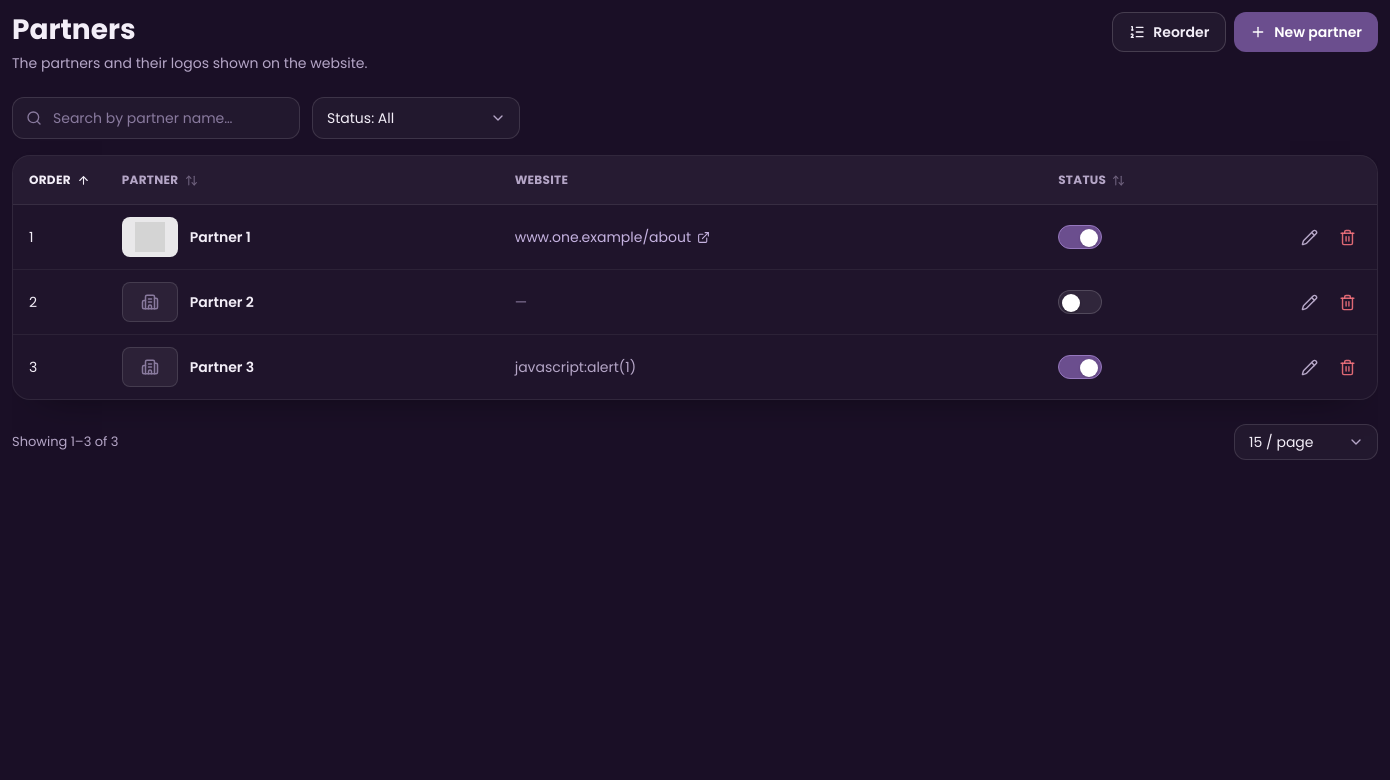
Test case: PartnerList › active toggle › sends only is_active and shows the saved toast
Expected: the text "Partner 1" is shown, top-left (190, 227), bottom-right (251, 247)
Click the switch named "Active: Partner 1": (1080, 237) top-left (1058, 225), bottom-right (1102, 249)
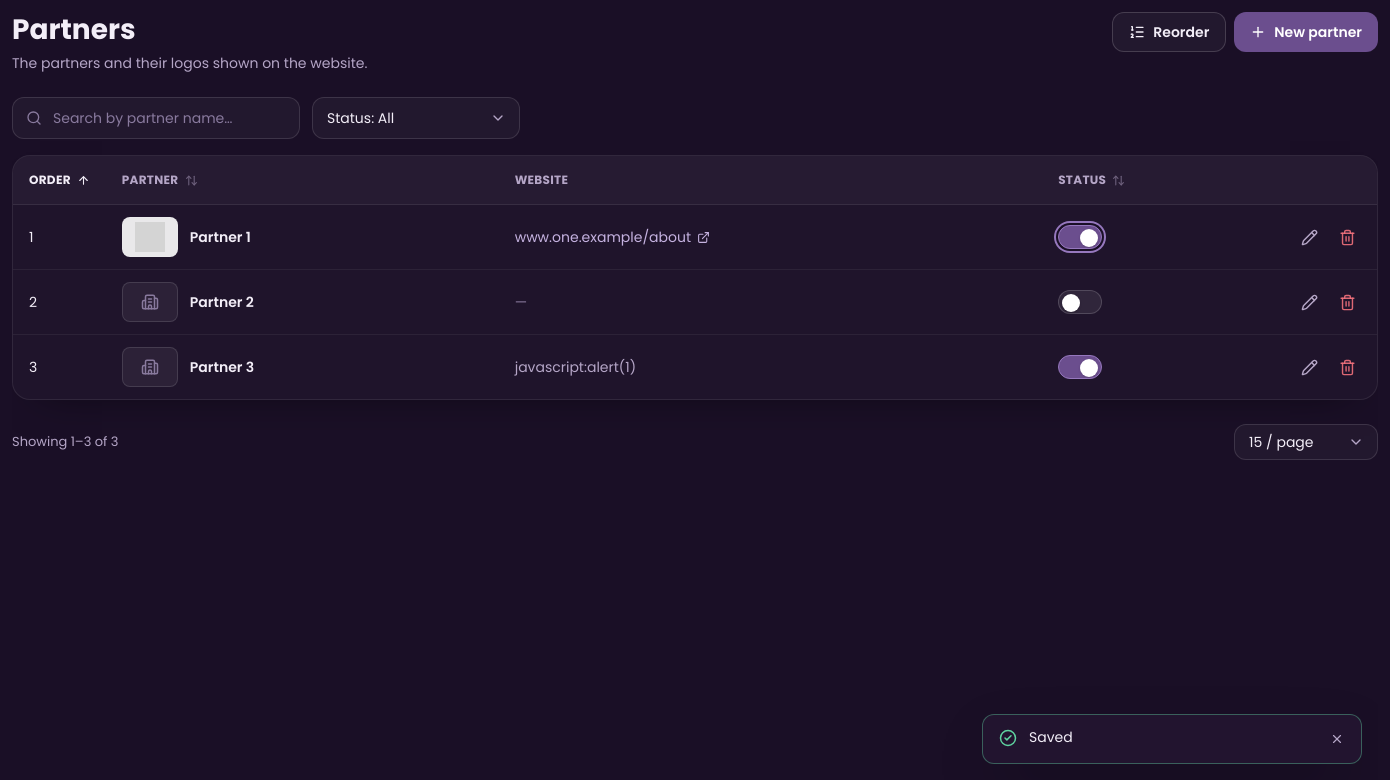
Result: the text "Saved" is shown at top-left (1029, 727), bottom-right (1073, 747)
